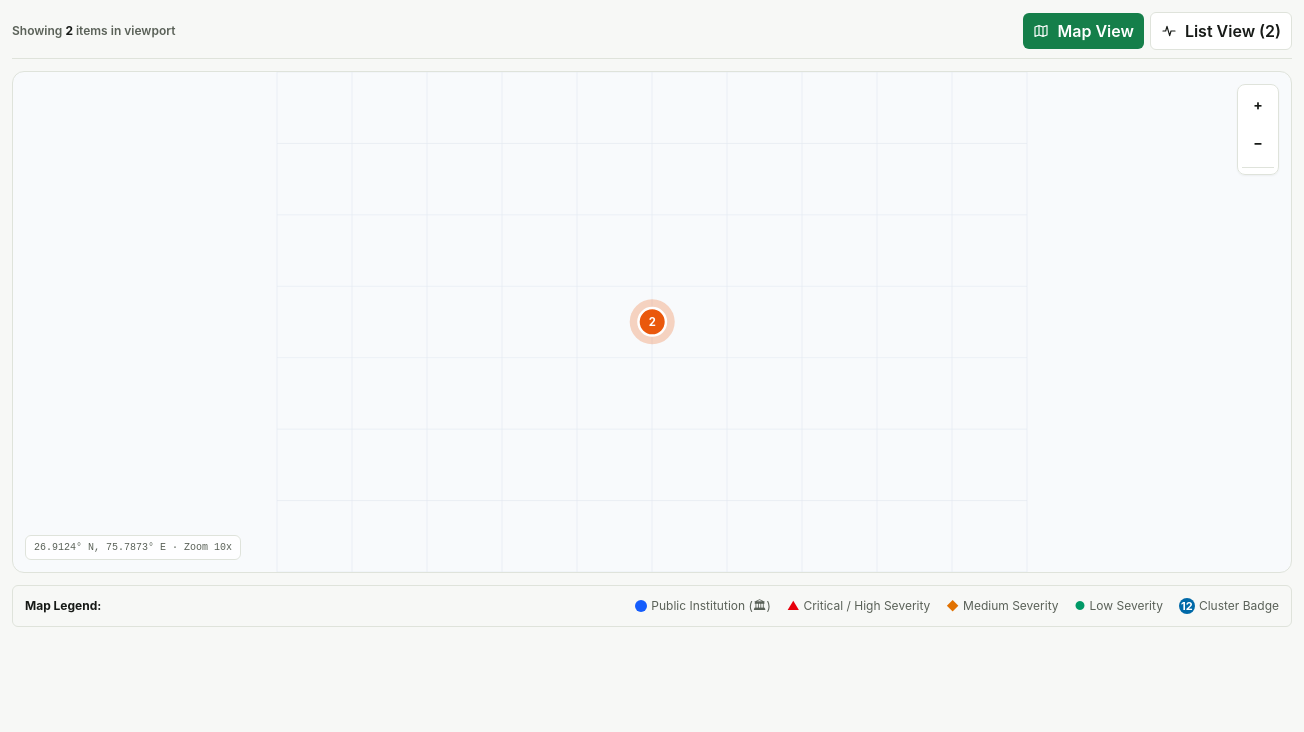
Test: MapExplore component › renders map with items and allows switching to list view
This screenshot has width=1304, height=732.
Expected: the message shows "2", left=65, top=23, right=73, bottom=38
Expected: the message shows "items in viewport", left=73, top=23, right=175, bottom=38
Switch to List View
Click the button "List View (2)" at [1221, 31], box left=1150, top=12, right=1292, bottom=50
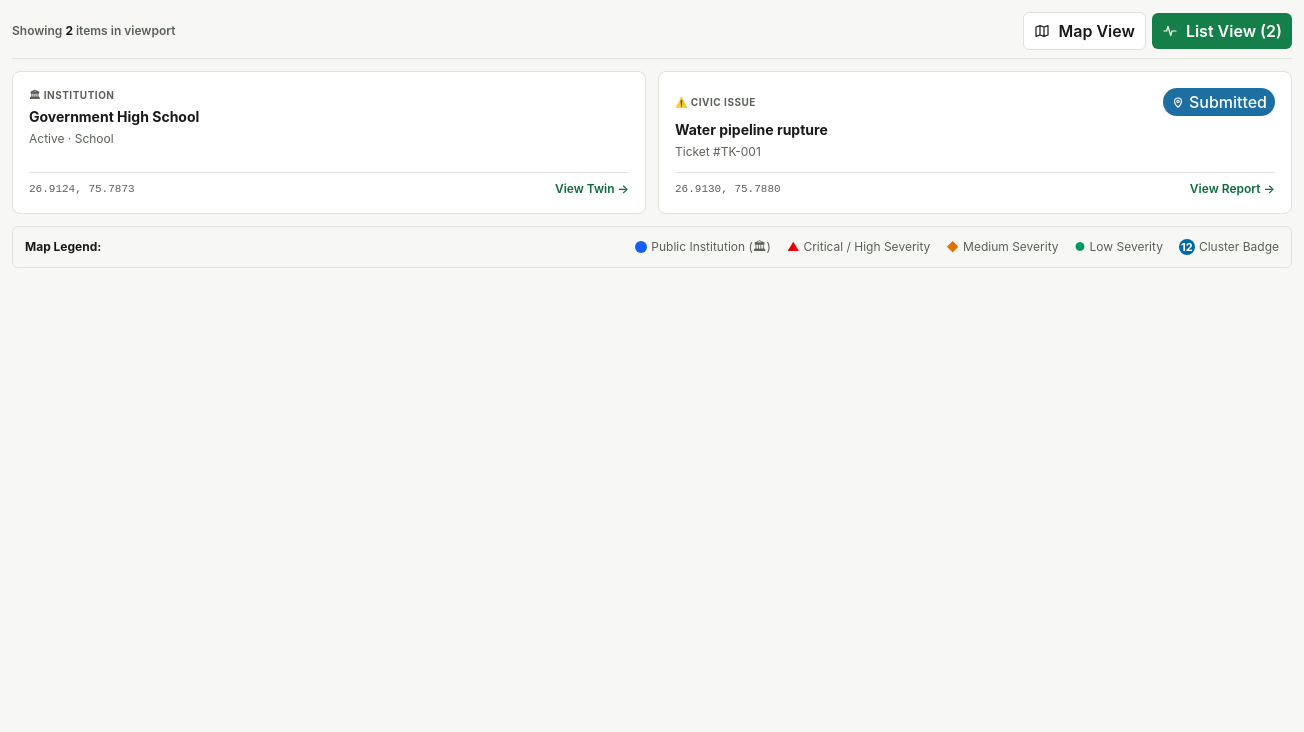
Expected: the heading "Government High School" is shown, left=29, top=108, right=199, bottom=125
Expected: the heading "Water pipeline rupture" is shown, left=675, top=121, right=828, bottom=138
